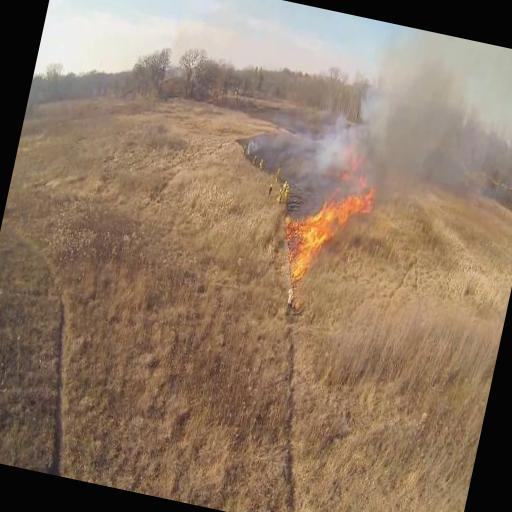fire: (274, 142, 384, 292)
smoke: (234, 64, 458, 253)
